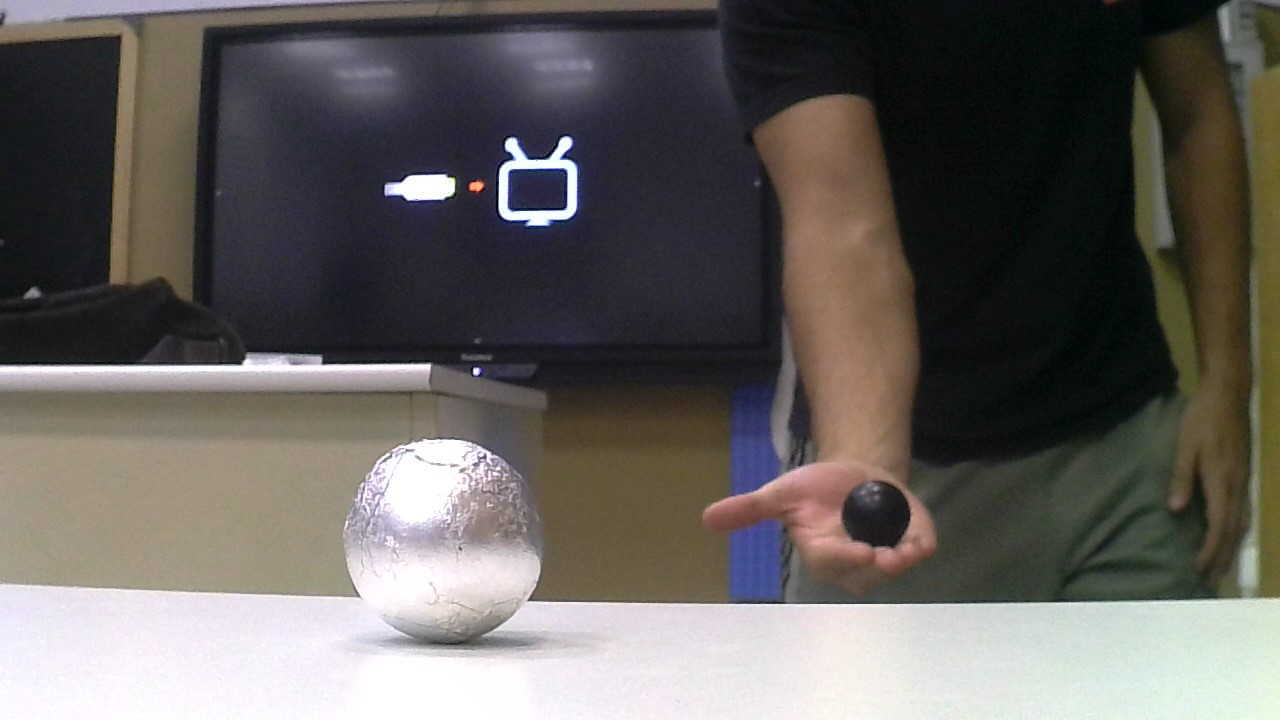black_ball: (839, 475, 911, 550)
silver_ball: (341, 435, 560, 647)
